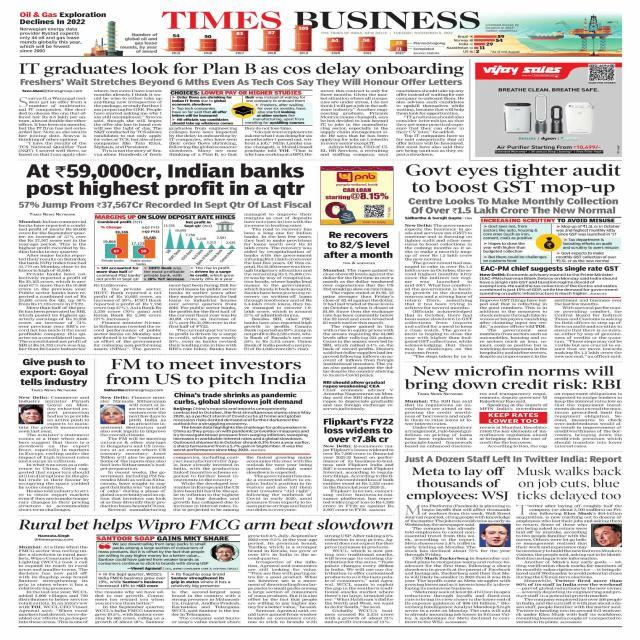Article: (16, 162, 314, 358), (14, 356, 316, 516), (16, 58, 468, 162), (402, 162, 626, 362), (13, 514, 400, 624), (404, 452, 626, 628), (404, 453, 628, 627), (320, 162, 400, 415), (401, 363, 625, 451), (319, 416, 399, 516)
Body: (244, 212, 312, 352), (403, 224, 473, 358), (18, 219, 86, 351), (404, 549, 512, 624), (516, 550, 624, 624), (322, 268, 394, 378), (247, 534, 319, 624), (324, 534, 396, 624), (18, 426, 91, 512), (174, 407, 312, 451), (100, 426, 167, 511), (18, 545, 88, 624), (92, 89, 164, 157), (322, 444, 394, 512), (320, 89, 390, 157), (92, 283, 162, 351), (396, 89, 466, 157), (168, 284, 238, 350), (18, 96, 88, 157), (479, 298, 549, 358), (555, 298, 623, 358), (554, 392, 624, 448), (246, 456, 313, 512), (174, 456, 239, 512), (403, 399, 474, 448), (478, 273, 619, 296), (169, 590, 242, 624), (483, 224, 547, 262), (94, 590, 165, 624), (556, 226, 621, 262), (404, 503, 512, 523), (168, 126, 238, 156), (516, 503, 624, 522), (245, 126, 312, 156), (170, 96, 236, 124), (244, 96, 307, 125), (403, 524, 477, 548), (516, 524, 588, 548), (323, 388, 395, 411), (478, 426, 548, 448), (478, 392, 548, 410), (96, 572, 166, 588), (170, 572, 232, 588), (46, 404, 91, 424), (129, 404, 166, 426), (95, 266, 142, 282), (190, 266, 234, 282), (143, 266, 184, 281), (18, 396, 90, 404), (98, 396, 166, 402)
Date: (393, 31, 452, 35)
Heading: (24, 163, 306, 198), (16, 62, 466, 78), (405, 164, 622, 196), (105, 358, 308, 388), (403, 365, 622, 392), (18, 518, 396, 532), (516, 466, 624, 502), (406, 466, 509, 502), (323, 229, 392, 259), (20, 358, 89, 387), (324, 418, 394, 442)
Highlights: (406, 198, 620, 214), (18, 78, 466, 85), (19, 200, 312, 210), (96, 542, 210, 566), (406, 454, 624, 464), (173, 392, 304, 406), (19, 27, 84, 52), (20, 10, 106, 25), (120, 32, 158, 54), (94, 214, 236, 219), (480, 266, 619, 271), (480, 218, 618, 222), (170, 91, 304, 95), (322, 380, 386, 388)
Image: (474, 62, 620, 156), (166, 30, 377, 56), (514, 13, 622, 56), (321, 166, 393, 225), (164, 220, 236, 265), (95, 220, 162, 266), (478, 524, 511, 548), (591, 524, 623, 548), (211, 542, 239, 562), (18, 404, 43, 424), (100, 405, 125, 424)
Name: (160, 10, 483, 30)
